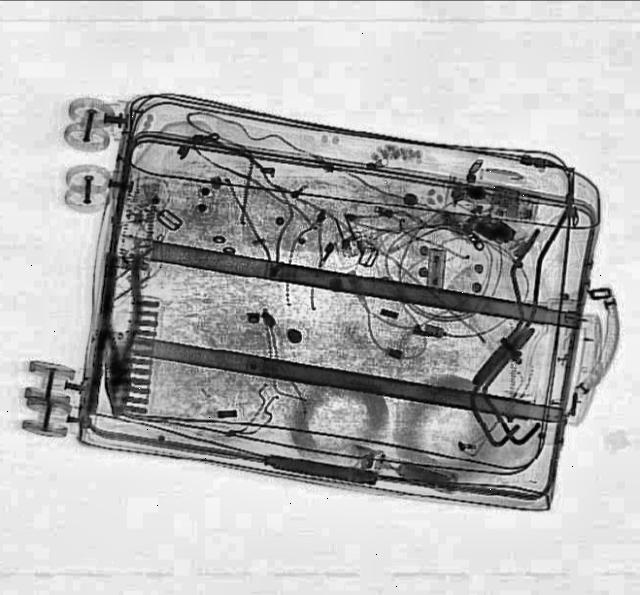Pliers: (94, 250, 148, 417)
